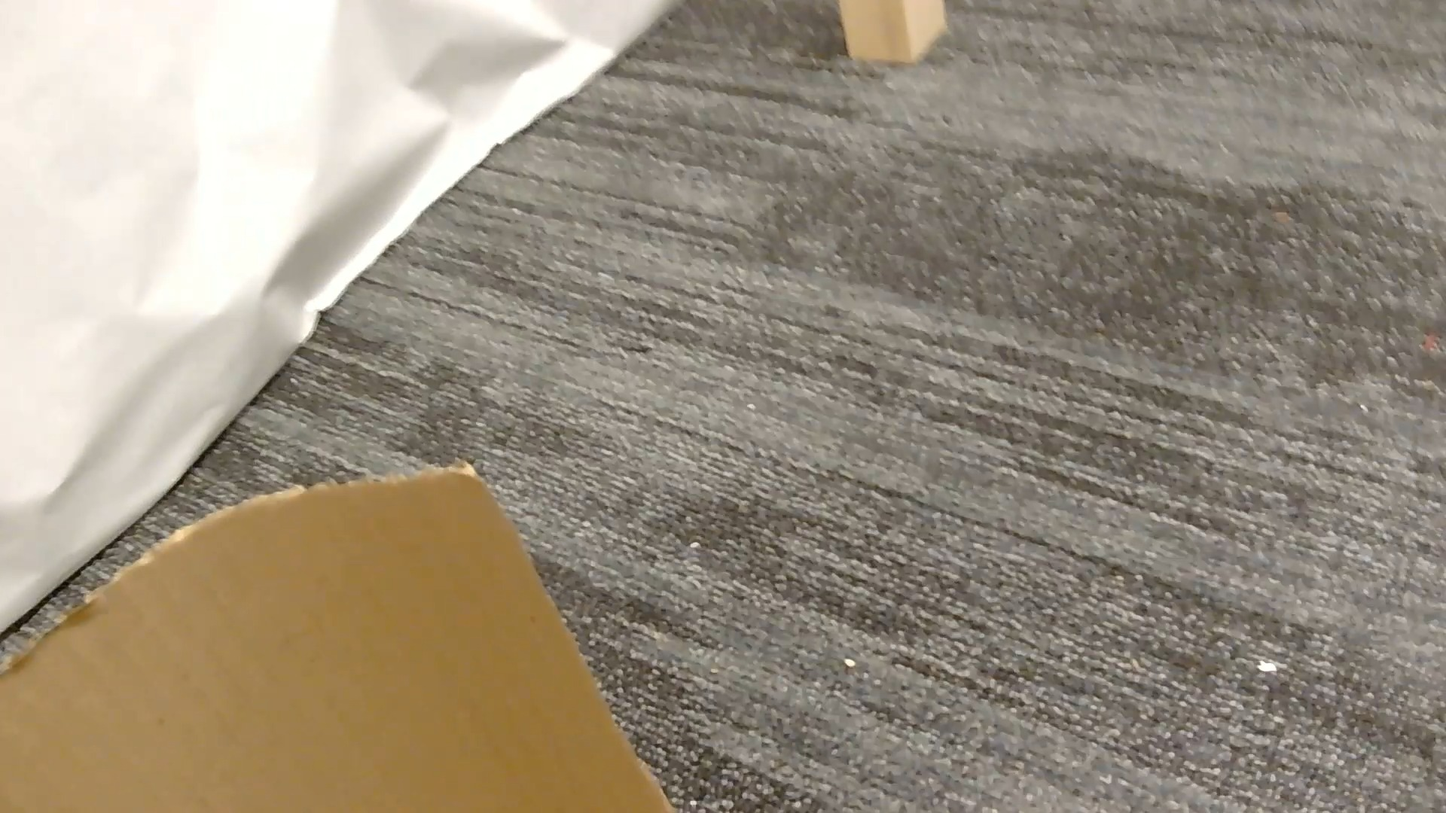Ramp: (0, 464, 673, 812)
Wooden Block: (837, 0, 946, 63)
